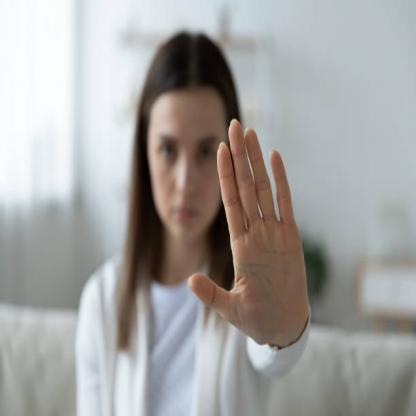stop: (186, 114, 310, 356)
